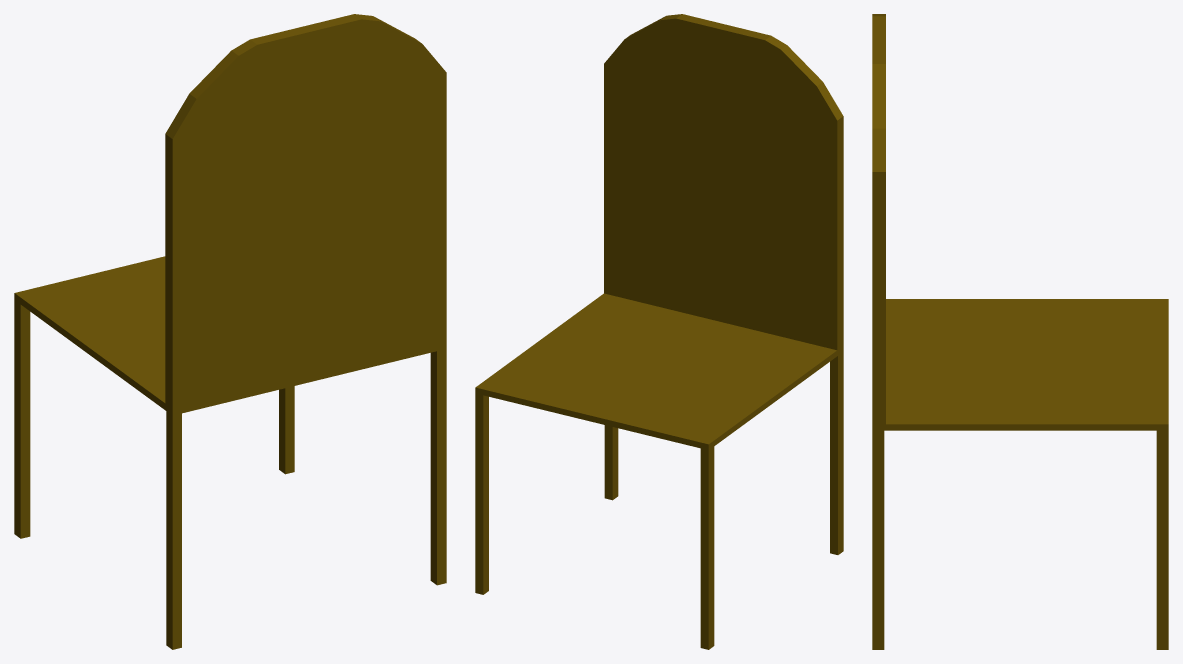
Rendered from Chair1.fbx.
The picture shows the model from 3 angles, left to right: view 1: azimuth 30°, elevation 25°; view 2: azimuth 150°, elevation 25°; view 3: azimuth 270°, elevation 25°; orthographic projection. The views are drawn at different scales.
Parts seen in each view (by area): view 1: pCube1; view 2: pCube1; view 3: pCube1.
Boxes of the visible parts, x1,y1,x2,y2 form: pCube1: (14, 14, 446, 649); pCube1: (475, 14, 843, 649); pCube1: (872, 14, 1168, 649).
Size of the model in its own units: 22.6 by 46.09 by 22.6.
